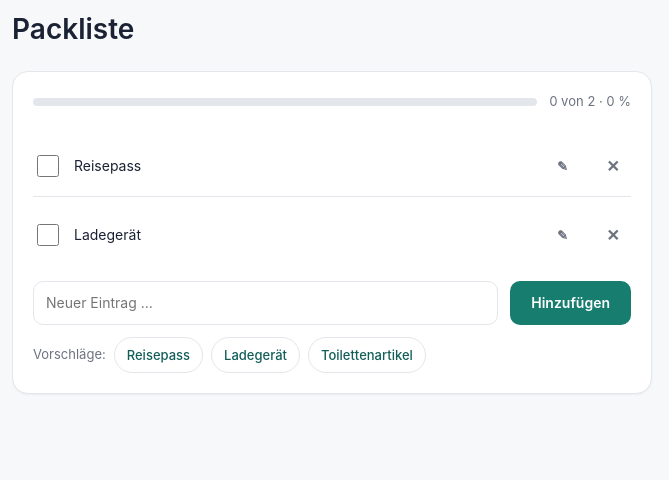
Test: PackingListPage check-off flow › adds a suggested default item with one click
Click the button with aria-label "Toilettenartikel hinzufügen": (367, 354) [308,336,426,372]
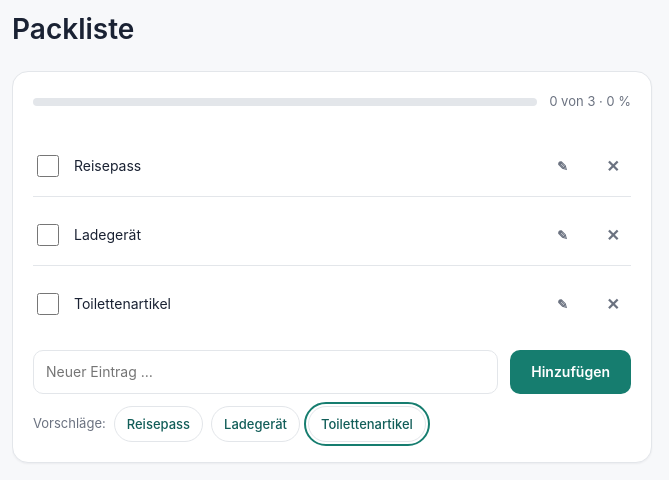
Now the text "Toilettenartikel" is shown, box [74,295,171,312]
